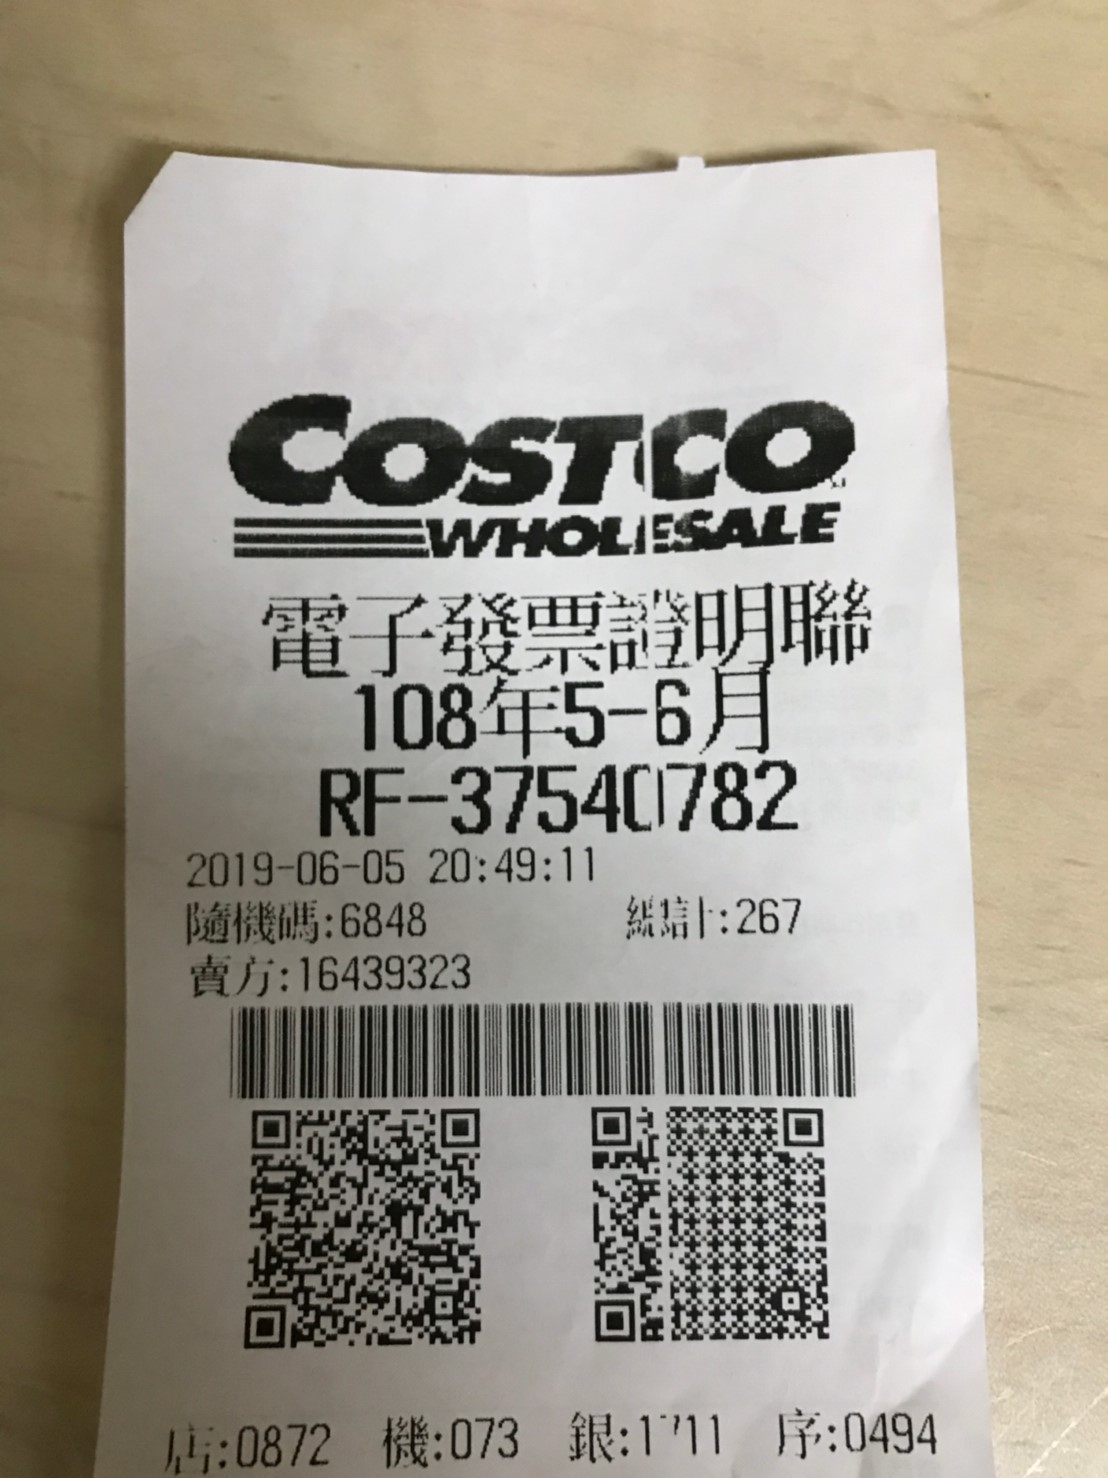Date_New: (351, 667, 776, 760)
Number_New: (452, 760, 800, 841)
